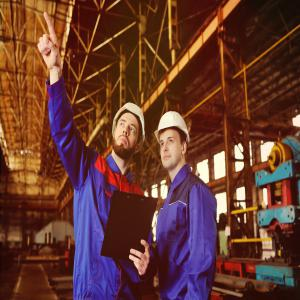white: (112, 102, 148, 160), (157, 113, 192, 172)
